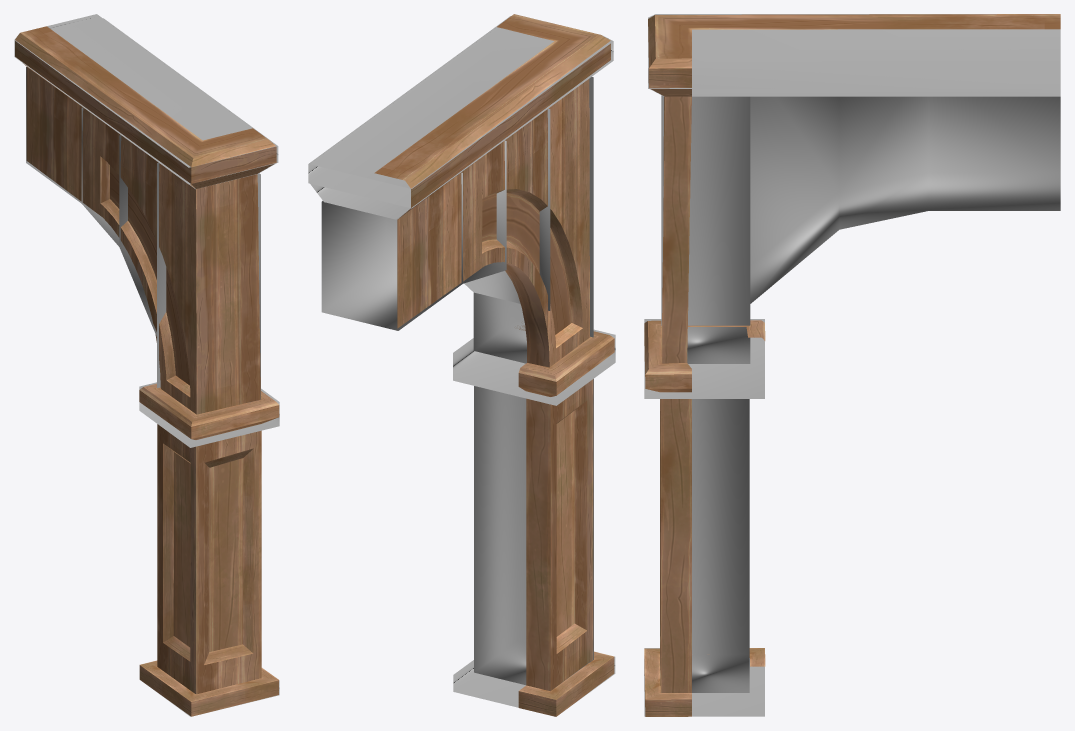
The model's file is SM_Door_Decoration.gltf.
The picture shows the model from 3 angles, left to right: view 1: azimuth 30°, elevation 25°; view 2: azimuth 150°, elevation 25°; view 3: azimuth 270°, elevation 25°; orthographic projection. The views are drawn at different scales.
Visible parts, largest first — view 1: SM_Door_Decoration_LOD0, SM_Door_Decoration_ConvexHulls; view 2: SM_Door_Decoration_LOD0, SM_Door_Decoration_ConvexHulls; view 3: SM_Door_Decoration_ConvexHulls, SM_Door_Decoration_LOD0.
Boxes of the visible parts, x1,y1,x2,y2 form: SM_Door_Decoration_LOD0: (15,26,279,716); SM_Door_Decoration_ConvexHulls: (14,14,279,716); SM_Door_Decoration_LOD0: (374,14,614,716); SM_Door_Decoration_ConvexHulls: (308,14,615,707); SM_Door_Decoration_ConvexHulls: (644,14,1060,716); SM_Door_Decoration_LOD0: (644,14,1060,716).
Size of what is drawn, in the model's own units: 0.6634 by 3.91 by 2.26.
Materials: 2 (1 with a texture image).
